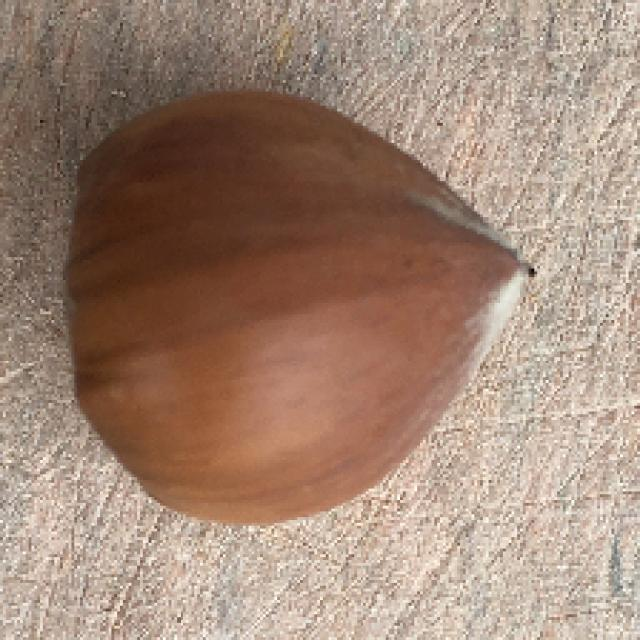qualityHazelnut: (57, 90, 539, 534)
